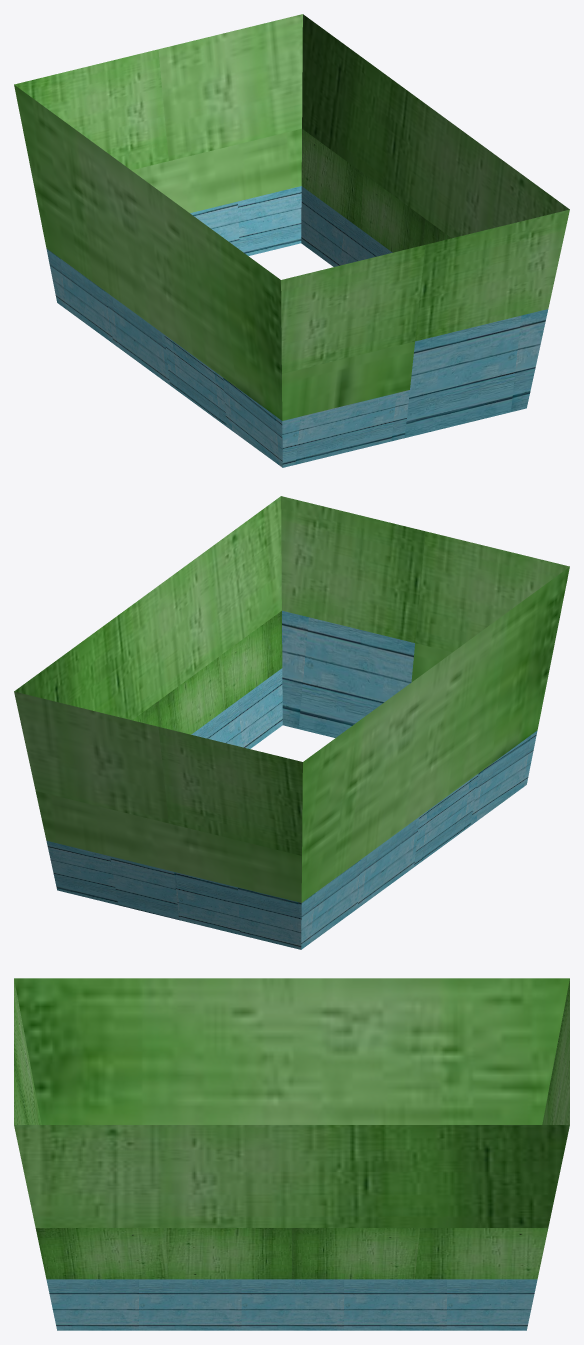
The model's file is baul1.obj.
The picture shows the model from 3 angles, top to bottom: view 1: azimuth 30°, elevation 25°; view 2: azimuth 150°, elevation 25°; view 3: azimuth 270°, elevation 25°; orthographic projection. The views are drawn at different scales.
Parts seen in each view (by area): view 1: Cube.003_Cube.004; view 2: Cube.003_Cube.004; view 3: Cube.003_Cube.004.
Part boxes in pixels (x1,y1,x2,y2): Cube.003_Cube.004: (14, 14, 569, 467); Cube.003_Cube.004: (14, 496, 569, 949); Cube.003_Cube.004: (14, 978, 569, 1330).
Bounding box in the file's own units: 2.34 × 1.61 × 3.74.
2 materials, 2 textured.
